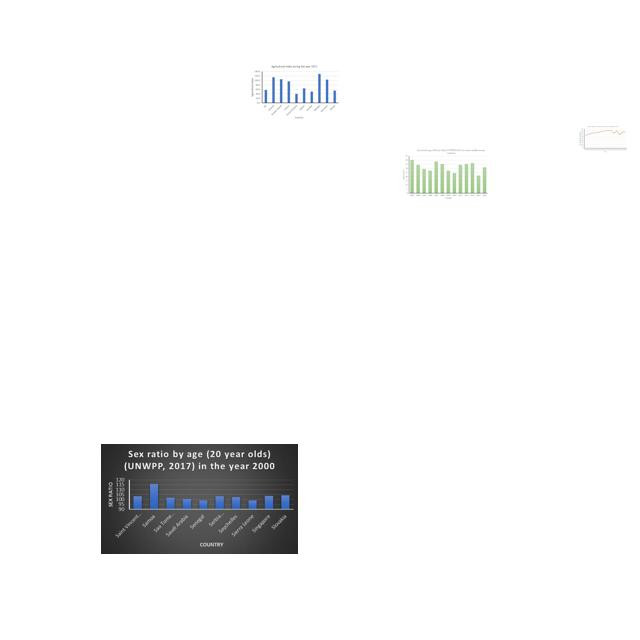Graph: (101, 444, 298, 554), (249, 64, 340, 119), (402, 148, 489, 201), (578, 125, 628, 153)
